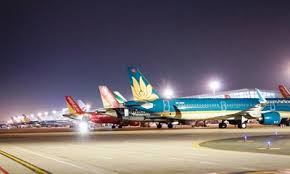maybay_dansu: (132, 64, 290, 131), (92, 87, 260, 127)
